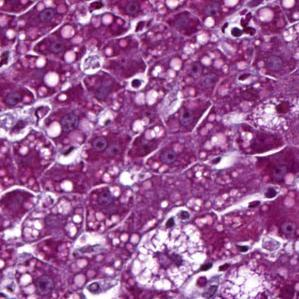ballooning: (129, 221, 210, 294), (215, 257, 292, 296)
